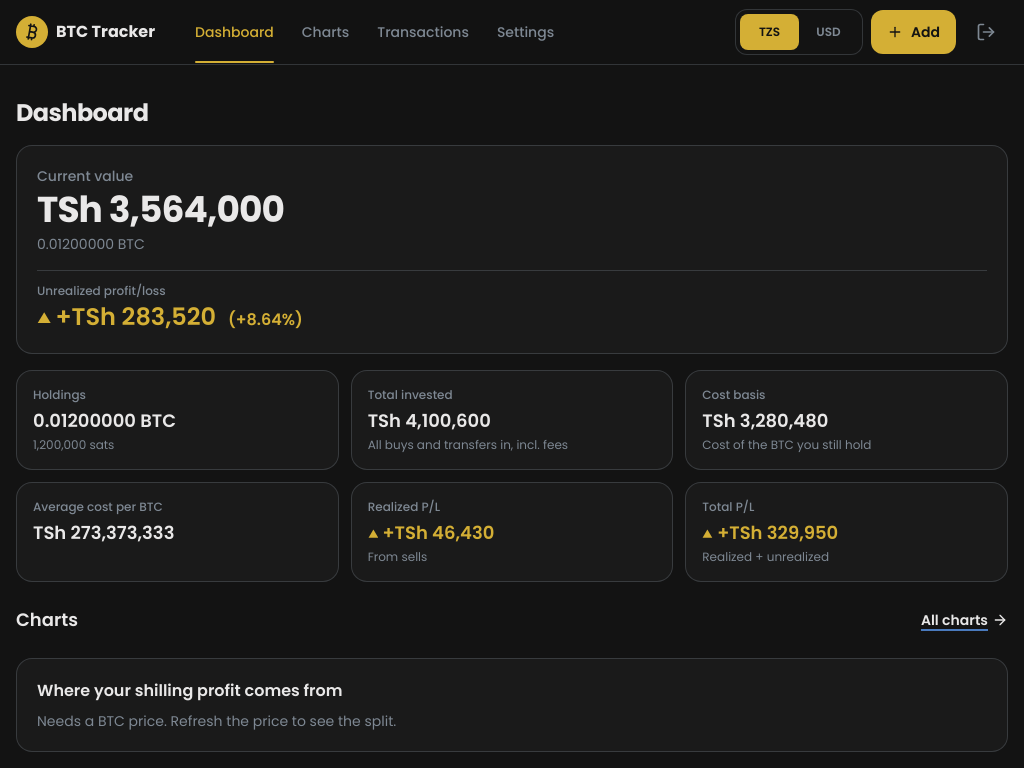
it: Dashboard › shows value and signed, coloured P/L in the chosen currency
Expected: the text "TSh 3,564,000" is shown, [37, 184, 284, 235]
Expected: the text "(+8.64%)" is shown, [228, 308, 303, 332]
Click the radio button labelled "USD". click: {"x": 828, "y": 32}
box: [816, 23, 841, 40]
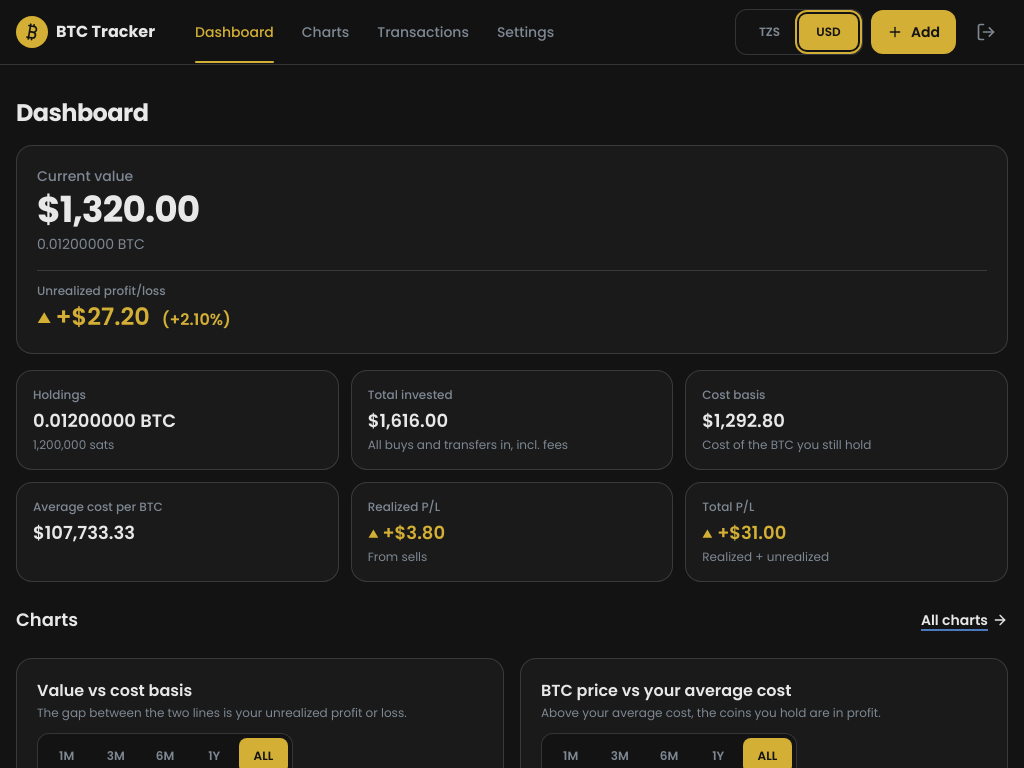
Now the text "$1,320.00" is shown, box [37, 184, 199, 235]
Now the text "+$27.20" is shown, box [37, 301, 150, 333]
